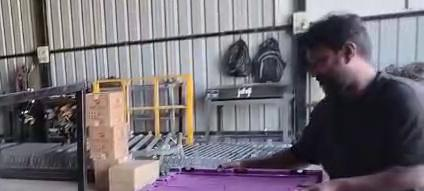box: (138, 169, 321, 190)
